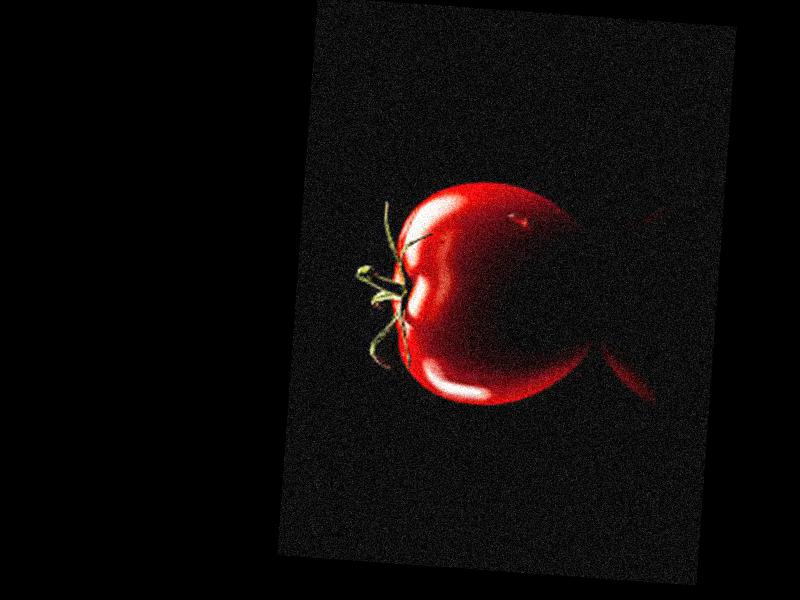Tomato: (378, 175, 596, 411)
